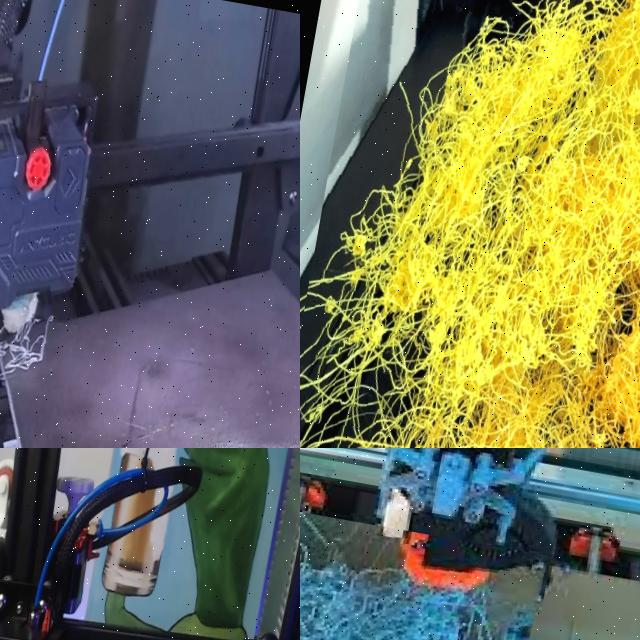spaghetti: (300, 0, 640, 448), (300, 512, 494, 640), (0, 307, 78, 395)
